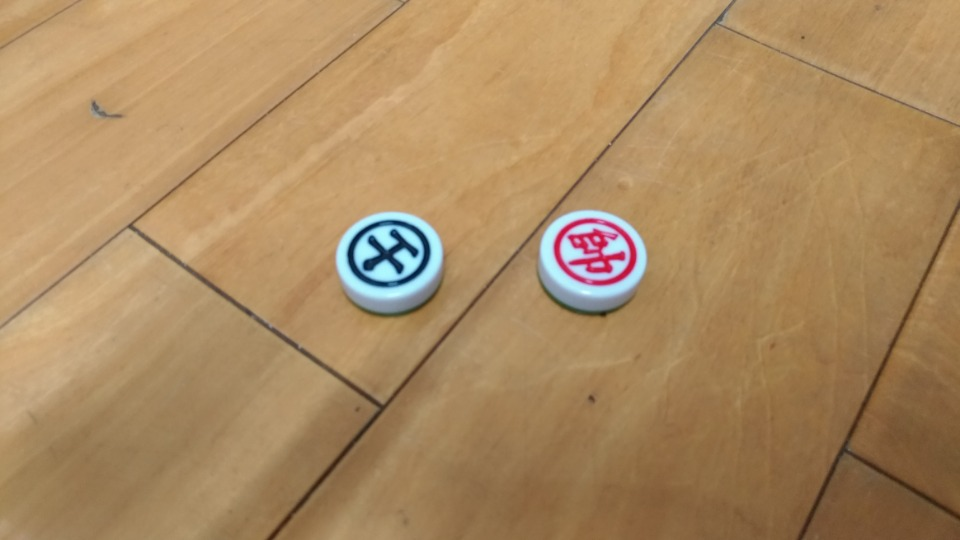b-advisor: (326, 202, 449, 326)
r-king: (531, 198, 654, 328)
